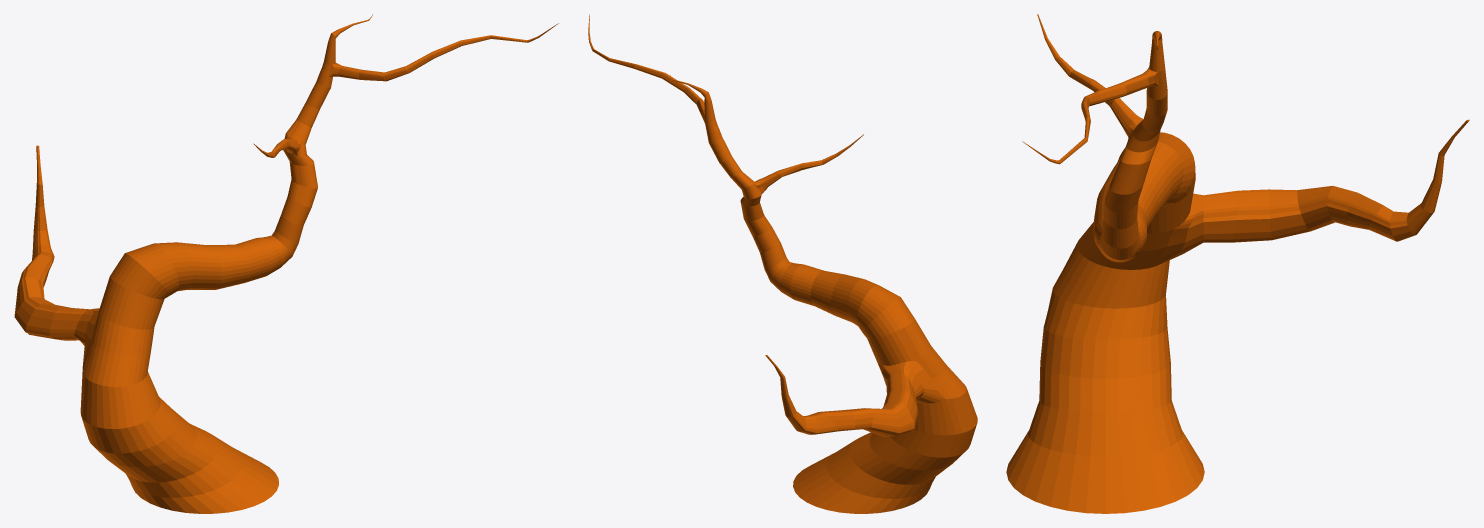
The model's file is Oak_Tree_01.fbx.
3 views of the same model, side by side, from view 1: azimuth 30°, elevation 25°; view 2: azimuth 150°, elevation 25°; view 3: azimuth 270°, elevation 25° (orthographic). The views are drawn at different scales.
Parts seen in each view (by area): view 1: Cylinder; view 2: Cylinder; view 3: Cylinder.
Boxes of the visible parts, <box> form: Cylinder: <box>14,14,558,513</box>; Cylinder: <box>588,14,977,513</box>; Cylinder: <box>1006,14,1469,513</box>.
Bounding box in the file's own units: 703 × 621 × 475.
